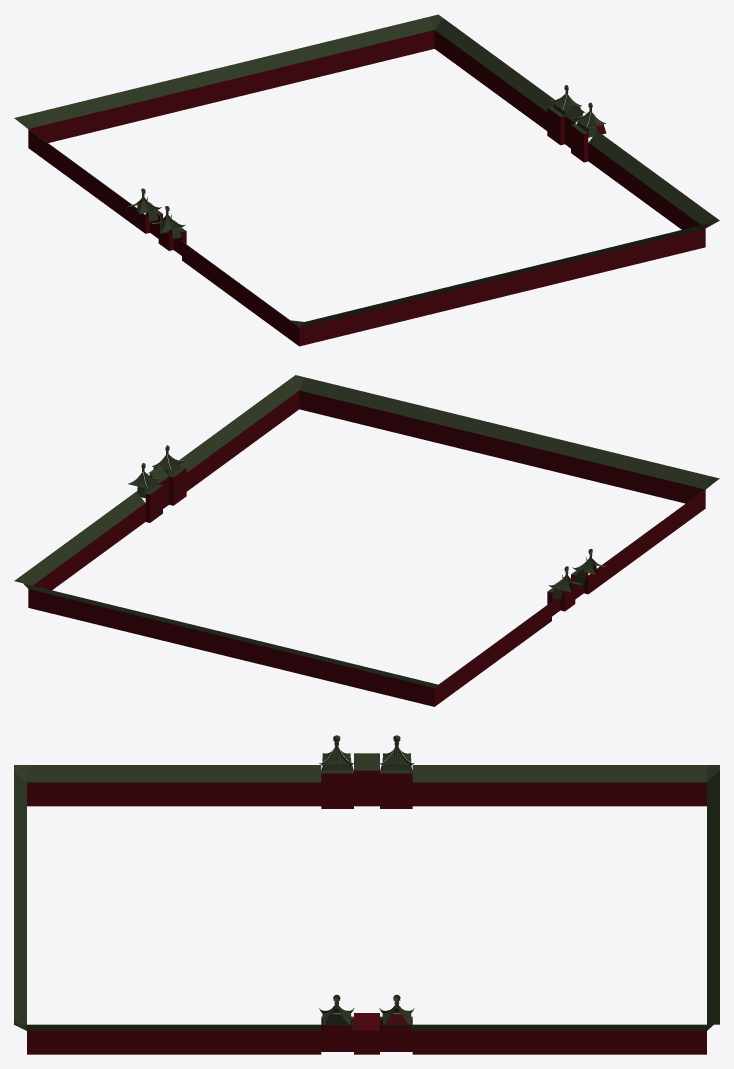
The model's file is SurroundingWall.fbx.
The picture shows the model from 3 angles, top to bottom: view 1: azimuth 30°, elevation 25°; view 2: azimuth 150°, elevation 25°; view 3: azimuth 270°, elevation 25°; orthographic projection. The views are drawn at different scales.
Parts seen in each view (by area): view 1: Cube.005; view 2: Cube.005; view 3: Cube.005.
Part boxes in pixels (left/top/right/bottom): Cube.005: left=14, top=14, right=719, bottom=346; Cube.005: left=14, top=375, right=719, bottom=706; Cube.005: left=14, top=735, right=719, bottom=1054.
Size of the model in its own units: 4913 by 552 by 5400.
